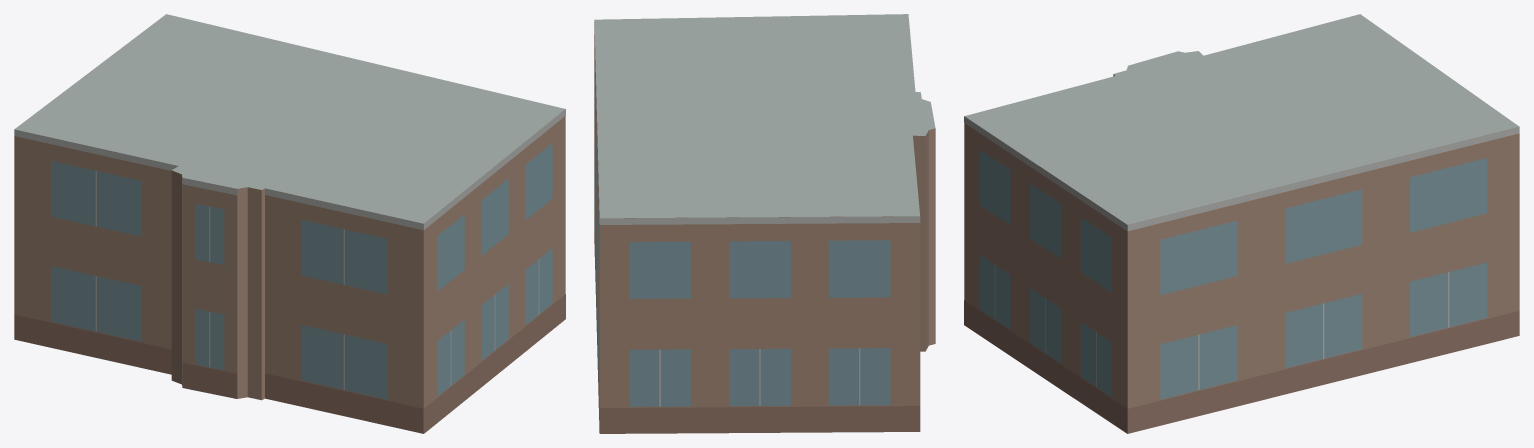
Rendered from survey-upis-32621822.glb.
3 views of the same model, side by side, from view 1: azimuth 30°, elevation 25°; view 2: azimuth 150°, elevation 25°; view 3: azimuth 270°, elevation 25° (orthographic). The views are drawn at different scales.
Visible parts, largest first — view 1: survey-upis-32621822.tmp; view 2: survey-upis-32621822.tmp; view 3: survey-upis-32621822.tmp.
Part boxes in pixels (x1,y1,x2,y2): survey-upis-32621822.tmp: (14, 14, 565, 433); survey-upis-32621822.tmp: (594, 14, 935, 433); survey-upis-32621822.tmp: (964, 14, 1519, 433).
Bounding box in the file's own units: 16.89 × 7.8 × 18.8.
